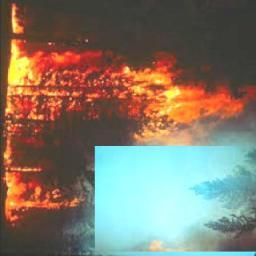Medium fire: (0, 5, 244, 222)
